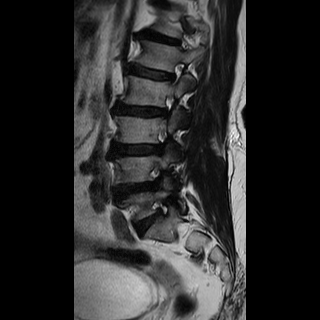RFS0: (158, 58, 193, 90)
